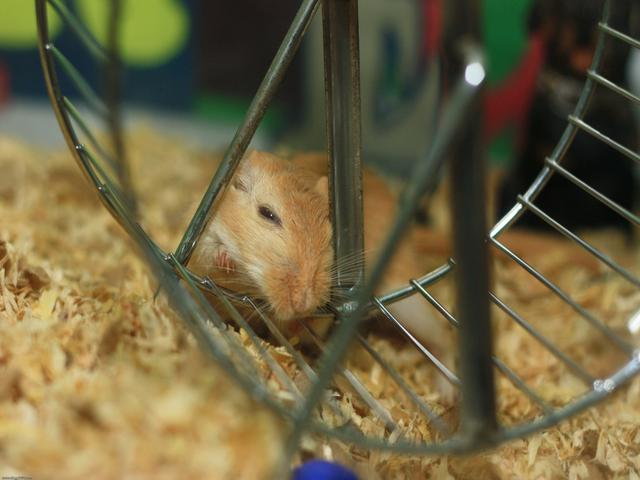mouse: (197, 137, 411, 368)
